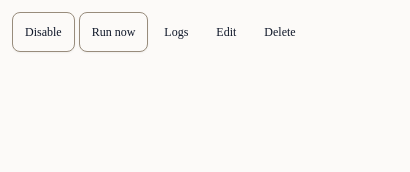
Test: ScheduleActions › asks for confirmation before deleting and can be cancelled
Step 1. Click the button with aria-label "Delete: Morning scan" → (280, 32), box [252,12,308,52]
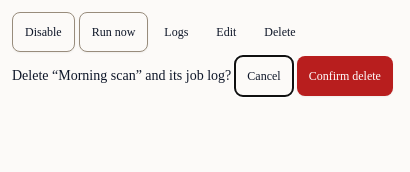
Expected: the form named "Confirm delete: Morning scan" is shown, [12,56,393,96]
Step 2. Click the button "Cancel" → (264, 76), box [235,56,293,96]
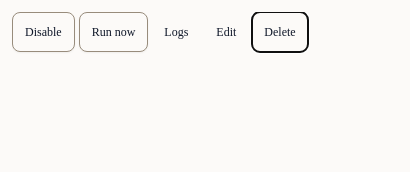
Expected: the button "Confirm delete" is gone
